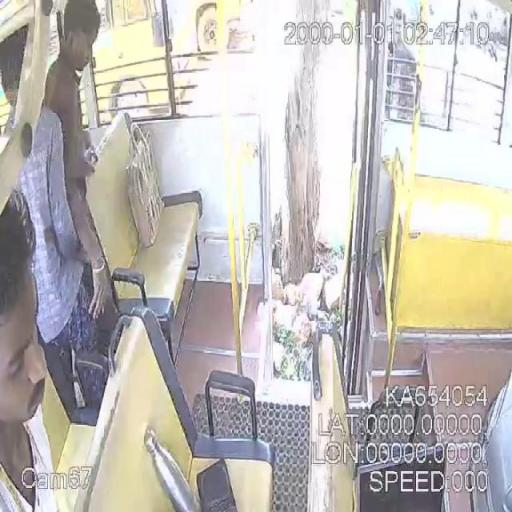persona: (16, 1, 118, 425), (0, 190, 60, 511)
